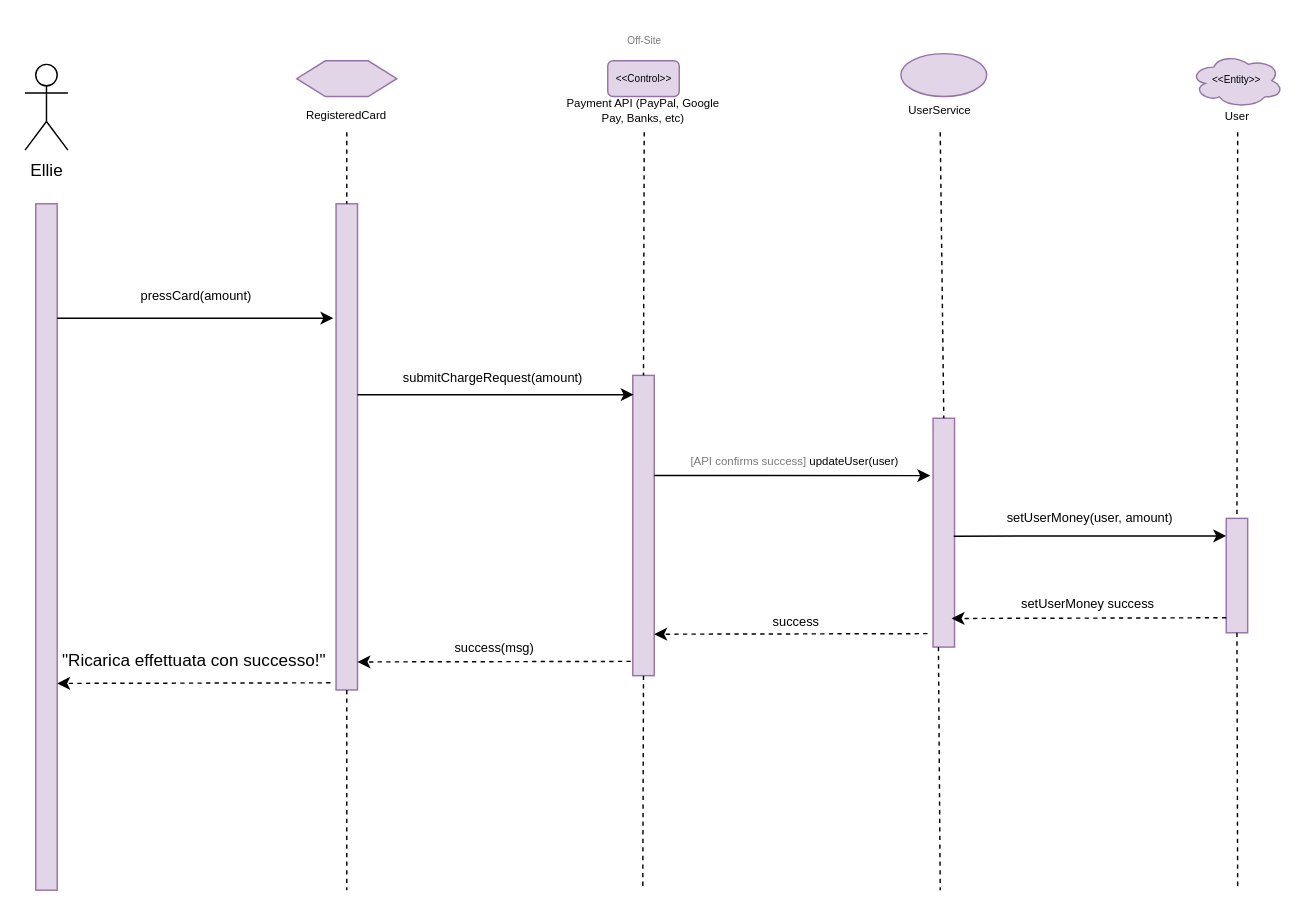
The diagram is 1308 pixels wide and 917 high, and some of its shapes have lost their labels. Each missing label, with the box of its shape:
<<Boundary>>: (295, 59, 397, 97)
<<Model>>: (899, 52, 987, 97)
